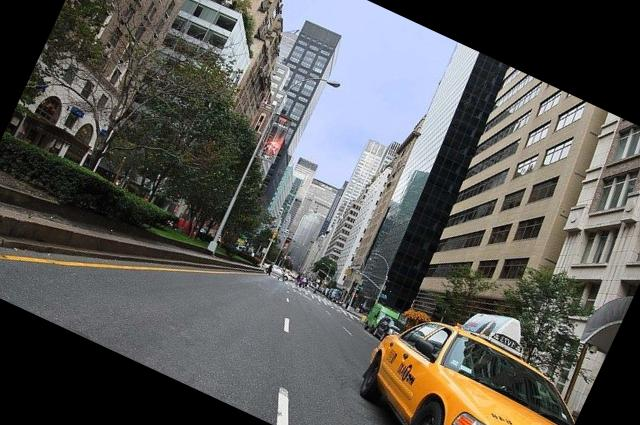taxi: (365, 312, 579, 425)
